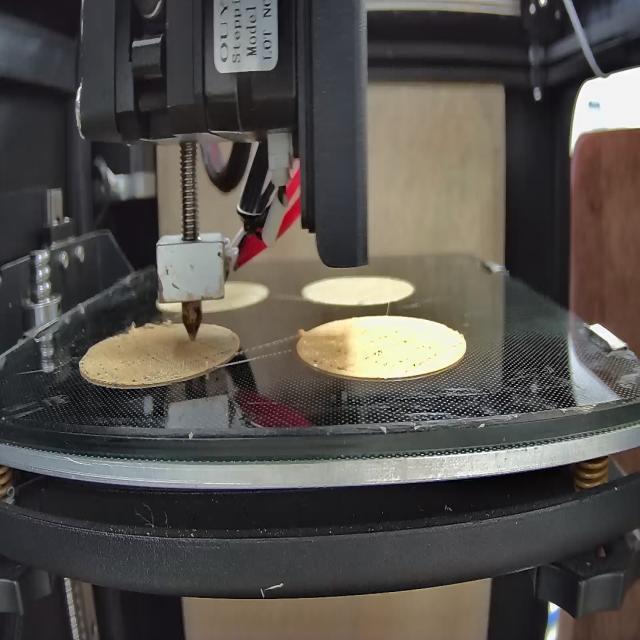under_extrusion: (362, 337, 439, 375), (80, 351, 140, 385), (309, 349, 352, 374), (198, 344, 236, 368)
